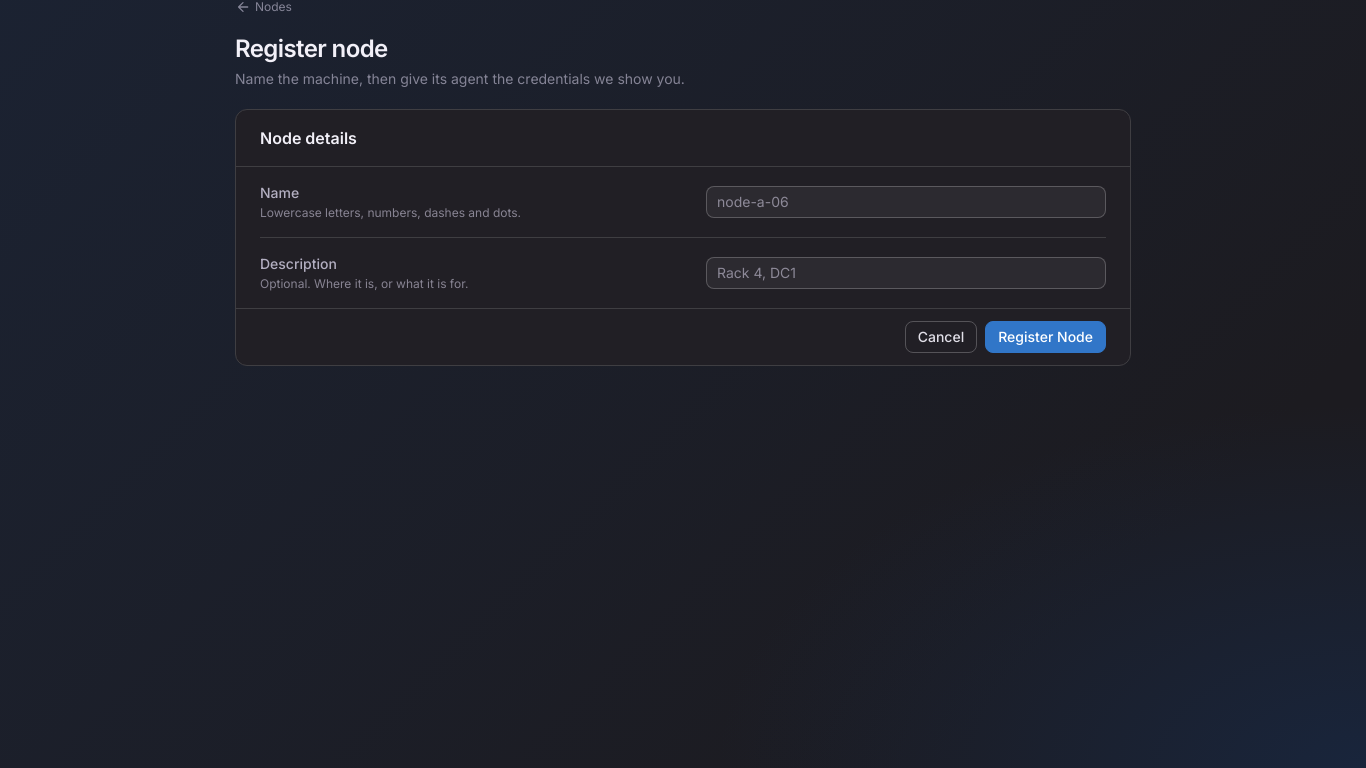
Test case: Register node page › registers the node under its form and shows the credentials once, ready for the agent
The width and height of the screenshot is (1366, 768).
Type " gpu-c-03 " into the field labelled "Name" at (906, 202), box 717,187 -> 1095,217
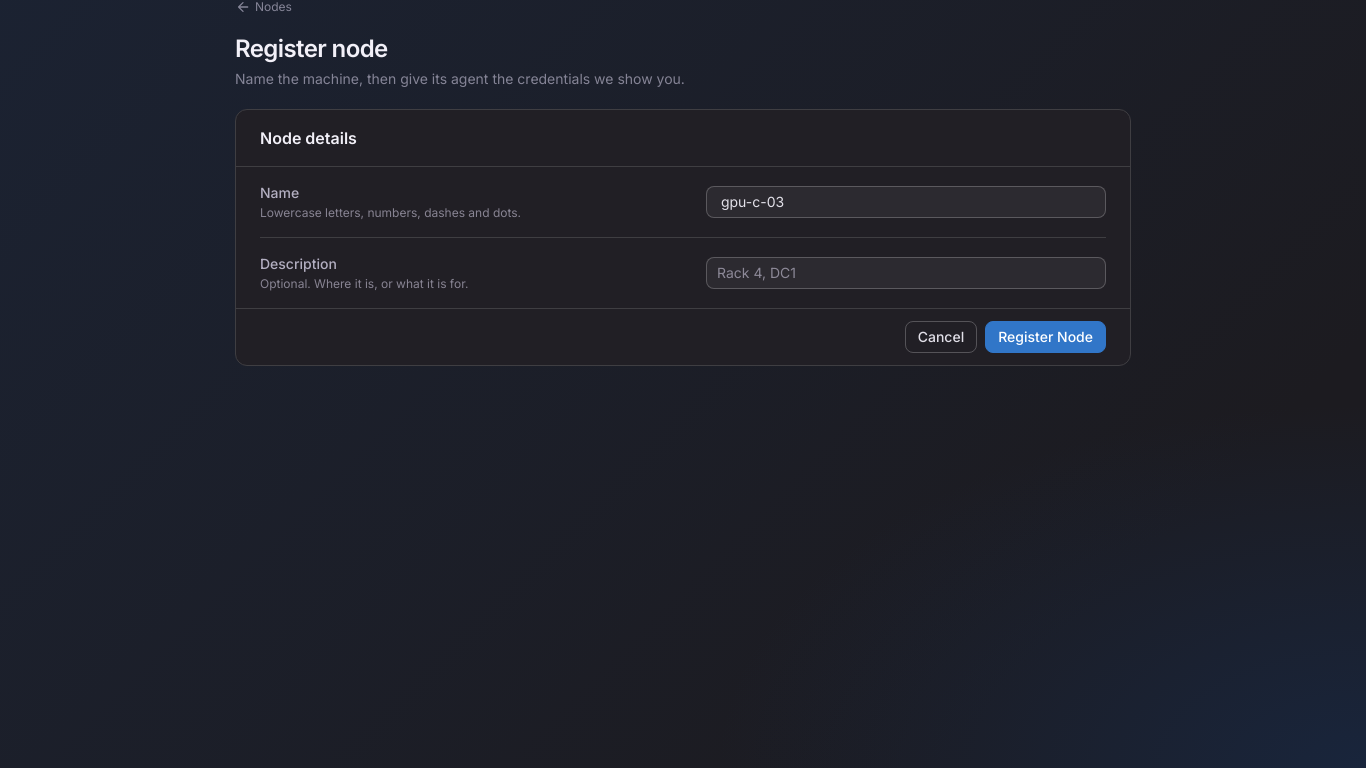
Type "Rack 4" into the field labelled "Description" at (906, 273), box 717,258 -> 1095,288
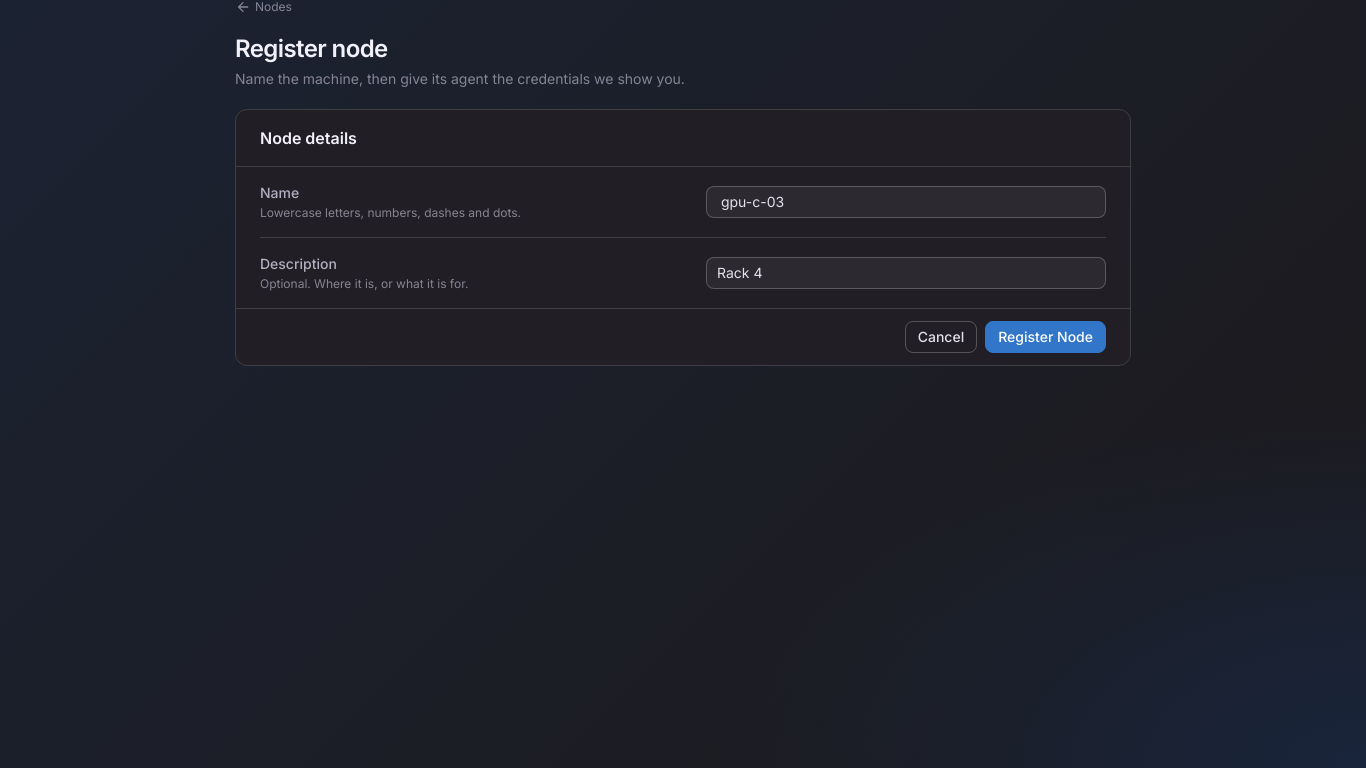
Submit the form, box 235,109 -> 1131,366
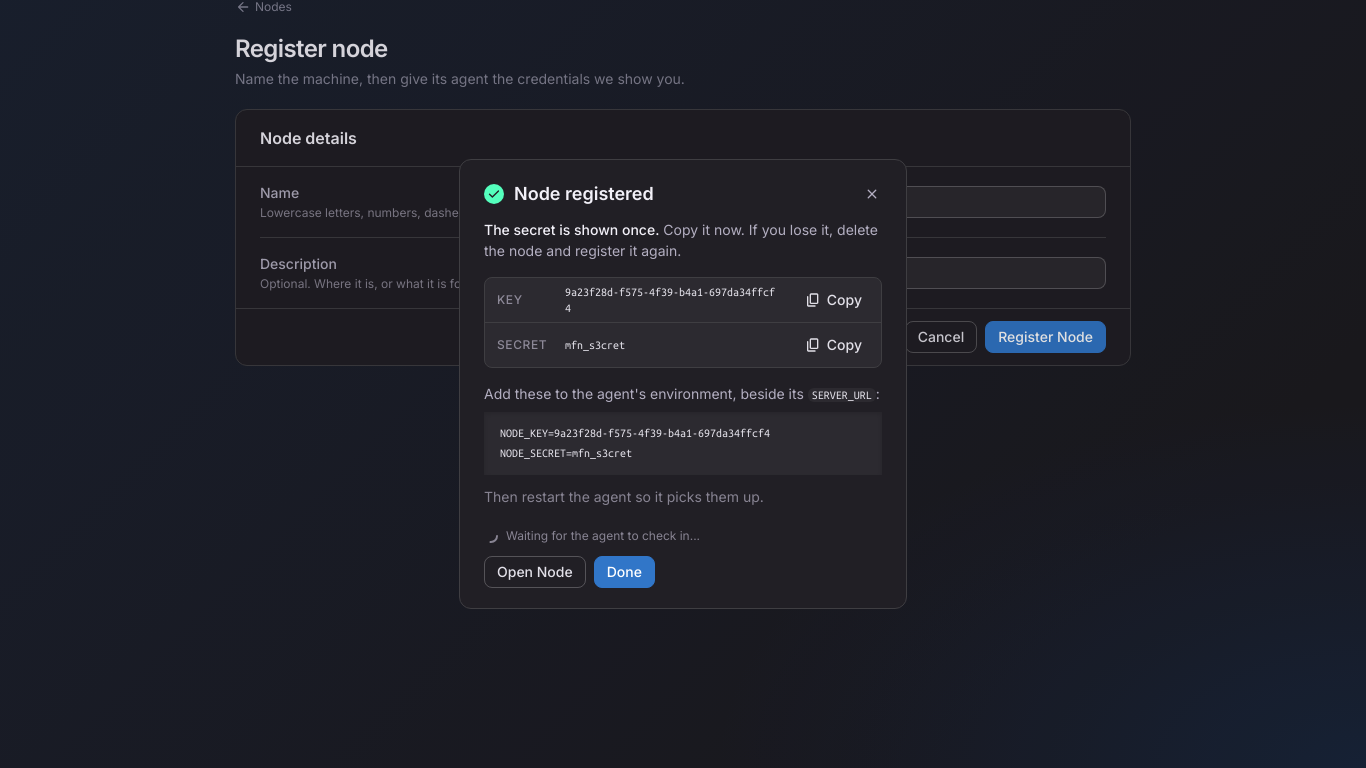
Expected: the dialog shows "The secret is shown once.", 484,221 -> 659,238
Expected: the text with test id "node-key" reads "9a23f28d-f575-4f39-b4a1-697da34ffcf4", 565,286 -> 775,314
Expected: the text with test id "node-secret" reads "mfn_s3cret", 565,339 -> 625,351
